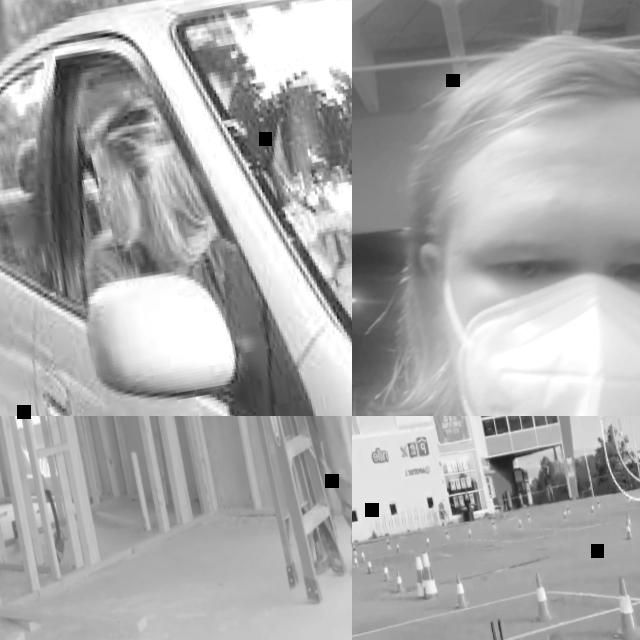Mask: (438, 253, 640, 416)
NO-Hardhat: (410, 9, 640, 246), (76, 94, 174, 178)
NO-Mask: (105, 197, 152, 248)
Person: (352, 0, 640, 416), (64, 72, 331, 333), (231, 416, 352, 582), (293, 45, 352, 324)
Safety Cone: (605, 569, 640, 640), (527, 568, 557, 623), (418, 549, 439, 600), (409, 552, 428, 602), (450, 570, 471, 611), (416, 568, 431, 601), (392, 567, 406, 594), (380, 558, 393, 582), (622, 519, 634, 541), (623, 510, 634, 531), (364, 554, 374, 575), (358, 548, 366, 563), (465, 525, 473, 540), (352, 553, 359, 568), (516, 515, 524, 528), (384, 537, 392, 550), (394, 540, 401, 554), (443, 526, 450, 539), (352, 541, 358, 554), (490, 518, 496, 530), (526, 511, 532, 523), (596, 497, 602, 509), (562, 507, 568, 518), (425, 536, 431, 547), (564, 503, 570, 514), (589, 502, 594, 512)
vehicle: (0, 0, 352, 416), (352, 555, 640, 640)
